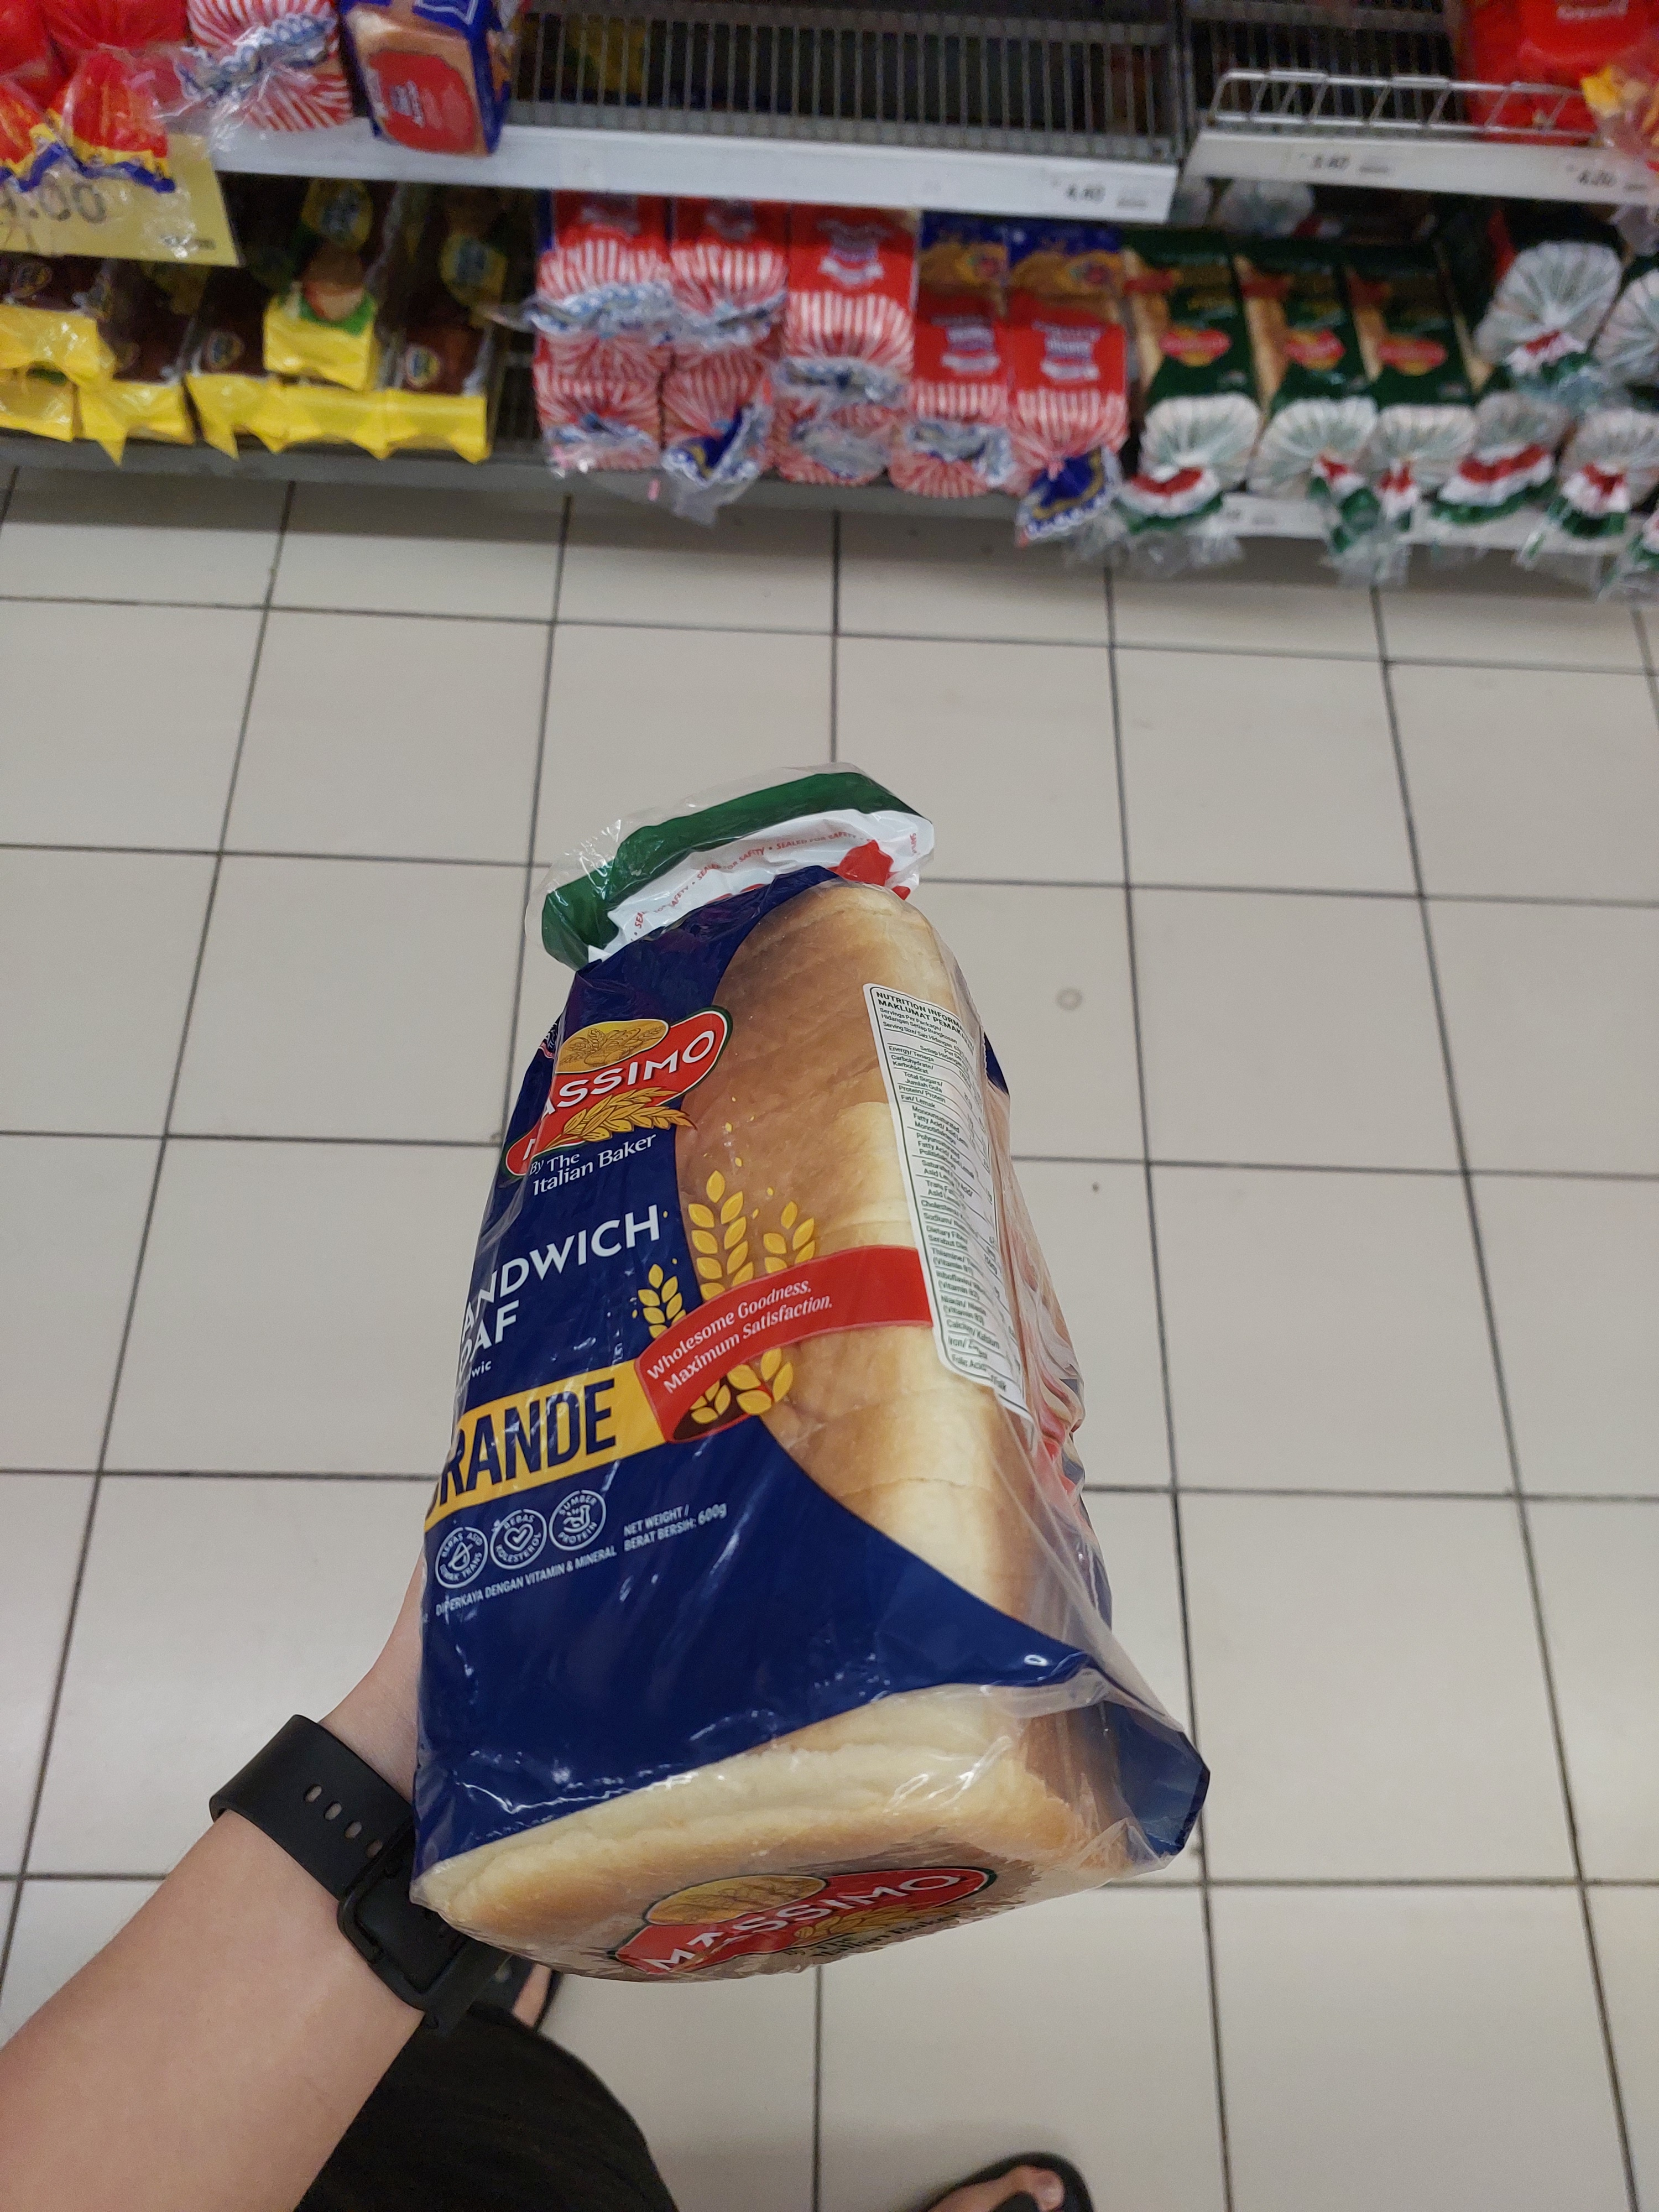bread: (401, 766, 1218, 1991)
